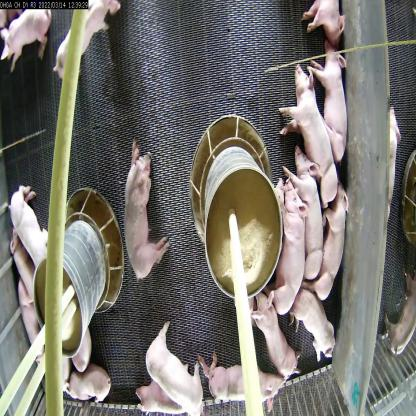Pig: (280, 53, 348, 213), (52, 0, 127, 91), (124, 137, 166, 281), (309, 29, 350, 172), (291, 270, 349, 368), (286, 136, 323, 286), (255, 284, 306, 392), (200, 353, 282, 416), (146, 327, 206, 413), (10, 169, 53, 288), (277, 172, 312, 316), (0, 0, 54, 83), (314, 182, 347, 300), (130, 360, 188, 415), (65, 364, 119, 414), (8, 218, 39, 304), (17, 293, 48, 359), (301, 0, 347, 44)
